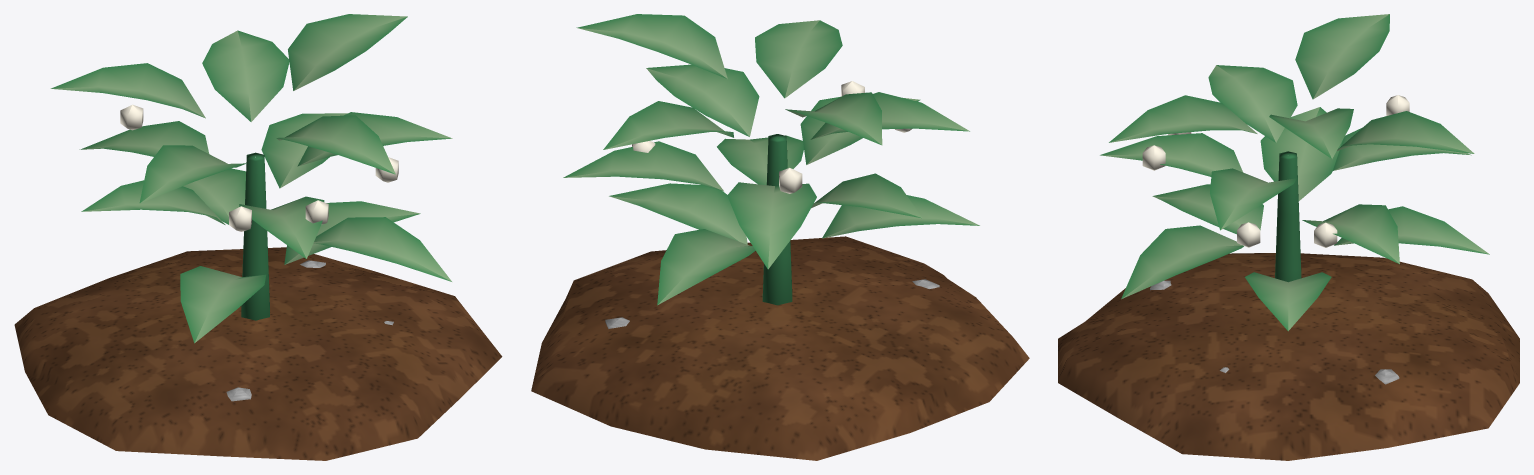
Rendered from plant-blueberry-3.glb.
3 views of the same model, side by side, from view 1: azimuth 30°, elevation 25°; view 2: azimuth 150°, elevation 25°; view 3: azimuth 270°, elevation 25° (orthographic). The views are drawn at different scales.
Parts seen in each view (by area): view 1: plant-blueberry-3; view 2: plant-blueberry-3; view 3: plant-blueberry-3.
Boxes of the visible parts, bbox=[...] form: plant-blueberry-3: bbox=[14, 14, 502, 460]; plant-blueberry-3: bbox=[531, 14, 1029, 460]; plant-blueberry-3: bbox=[1058, 14, 1519, 460].
Bounding box in the file's own units: 0.84 × 0.5756 × 0.8189.
5 materials, 2 textured.
